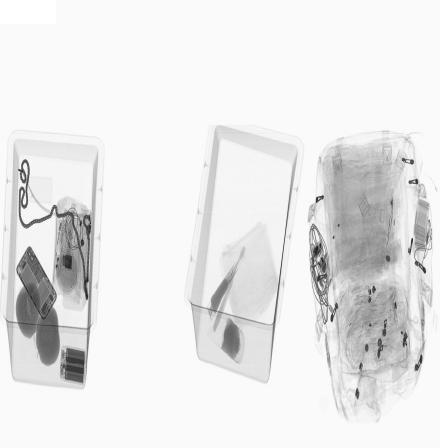Powerbank: (58, 345, 88, 385)
